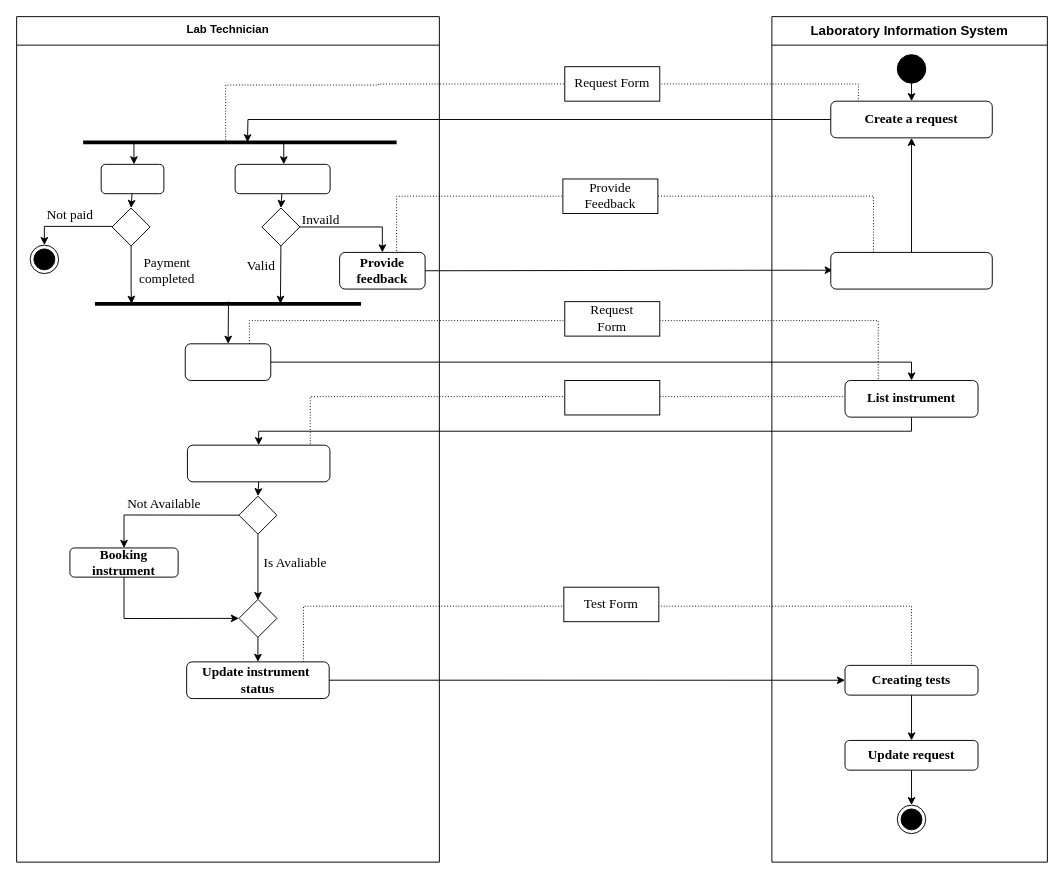
Some shapes in this 1064 by 879 pixel diagram are drawn without their labels. The centre of each missing label's shape, as x and y in pixels:
Cancel request: (911,270)
Checking order: (132,178)
Checking request detail: (282,178)
Getting experiment instrument infor: (258,463)
Instrument Form: (612,397)
Pocess request: (227,361)
